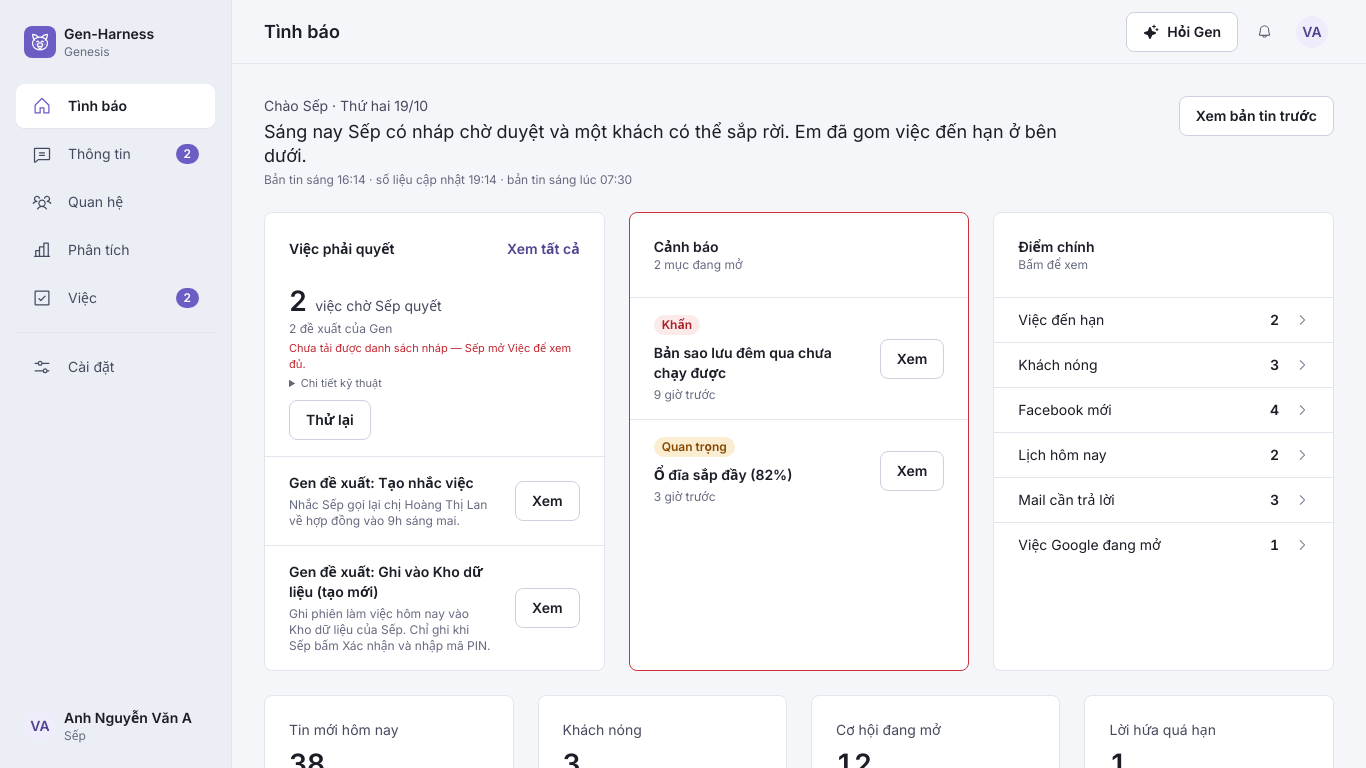
Test: OwnerShell › nút × của khung Gen trong ngăn đóng ngăn; mở lại được
The width and height of the screenshot is (1366, 768).
Click the button with test id "owner-ask-gen". click: {"x": 1182, "y": 32}
box: [1126, 12, 1238, 52]
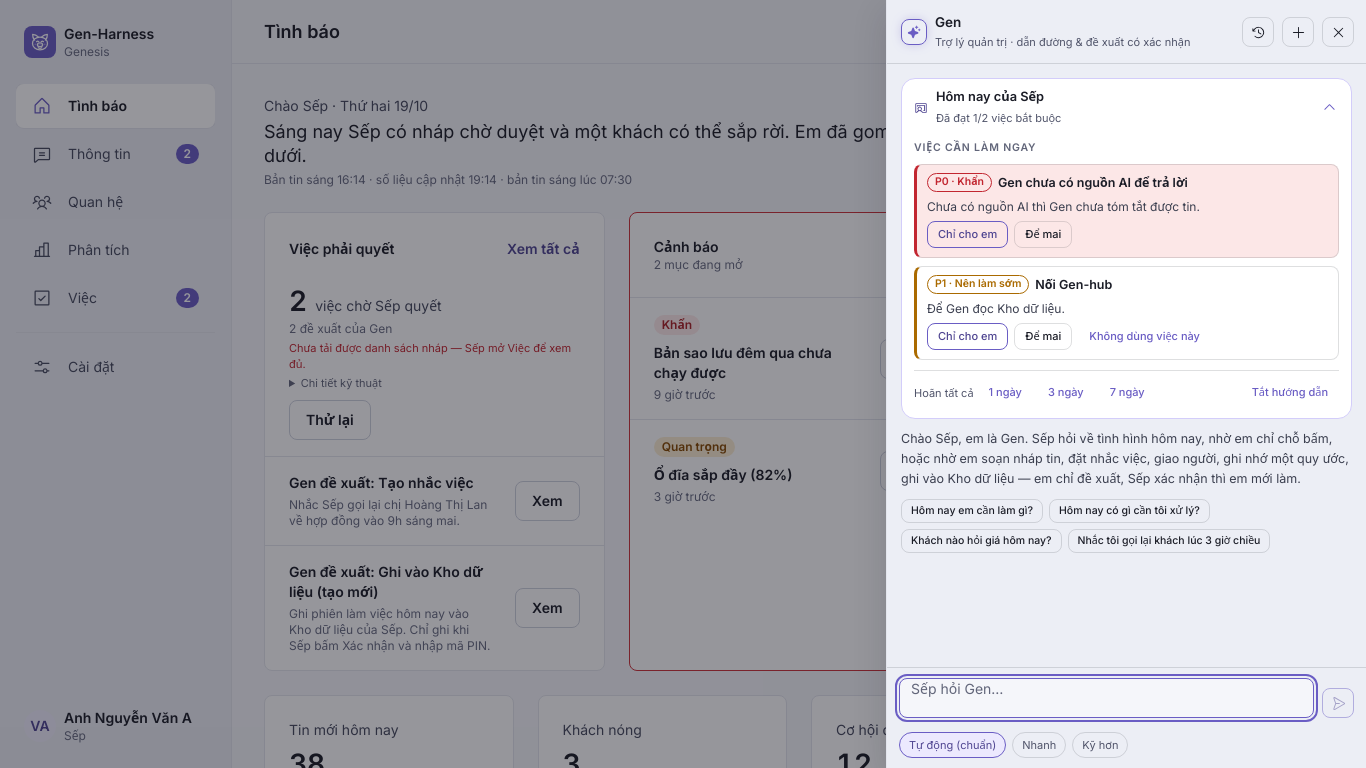
Click the button named "Đóng khung Gen". click: {"x": 1338, "y": 32}
box: [1322, 17, 1354, 47]
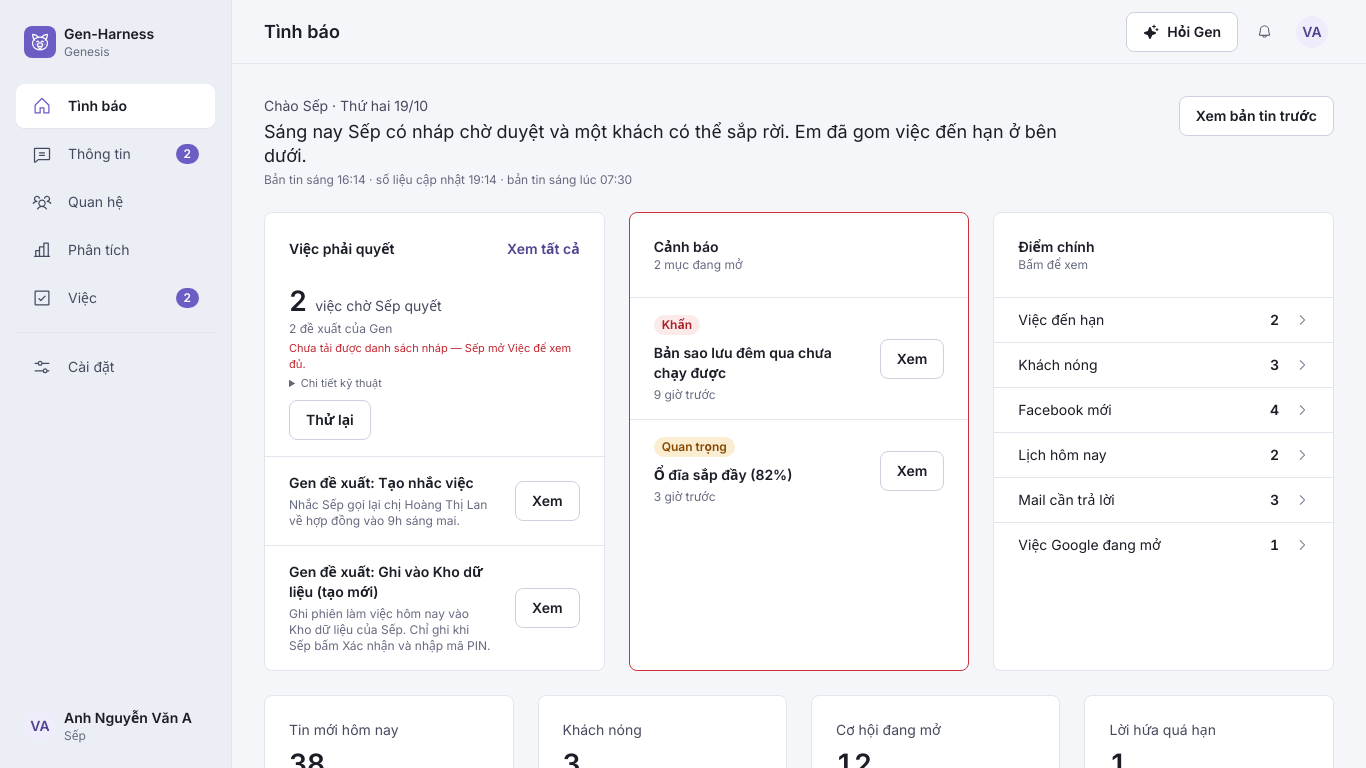
Result: the dialog is gone
Click the button with test id "owner-ask-gen". click: {"x": 1182, "y": 32}
box: [1126, 12, 1238, 52]
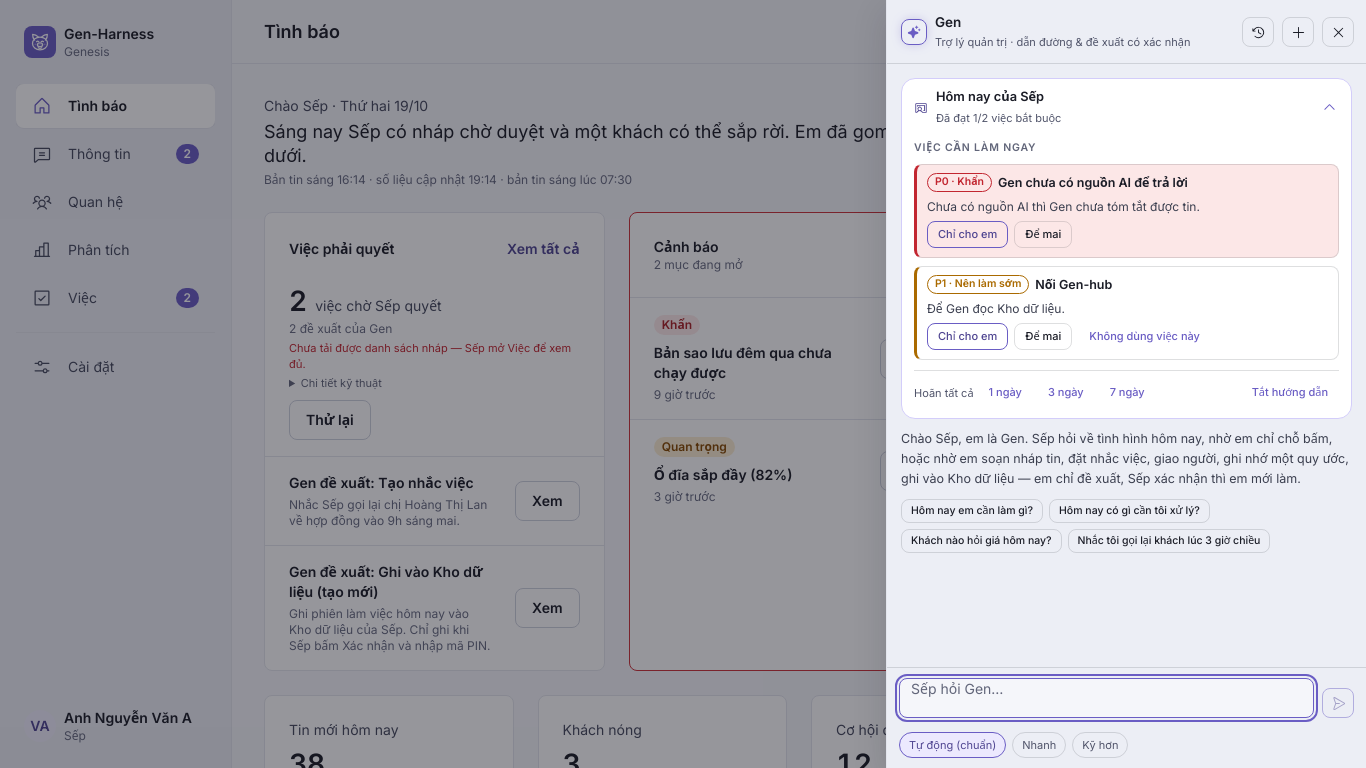
Result: the dialog named "Hỏi Gen" is shown at [886, 0, 1365, 767]
